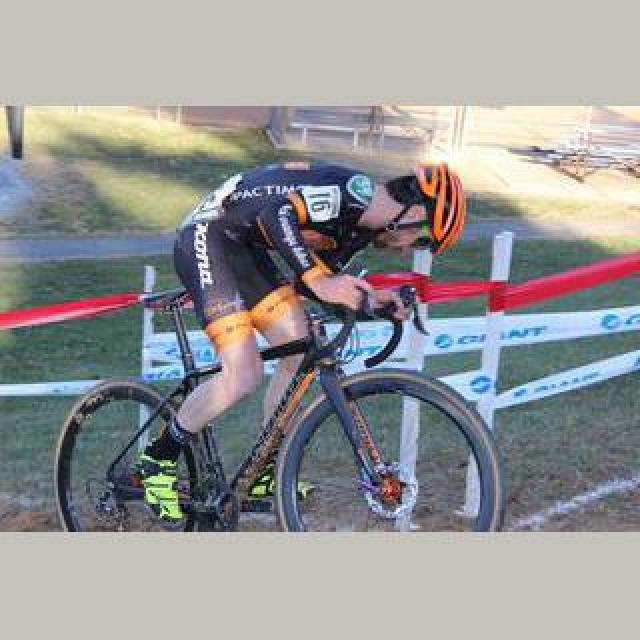MC-Bike: (154, 146, 480, 520)
Person: (39, 248, 523, 532)
